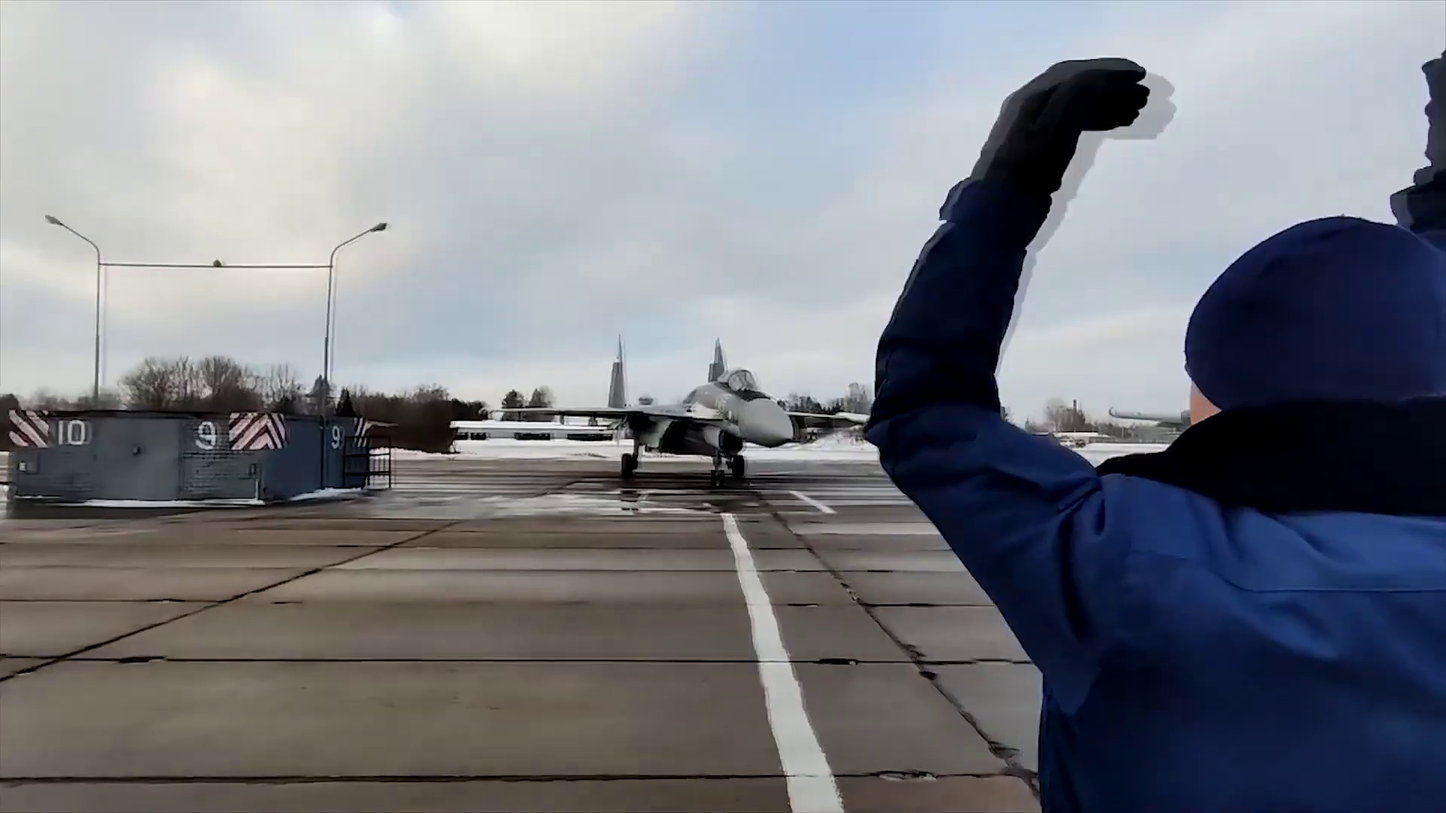Su35: (479, 334, 872, 478)
